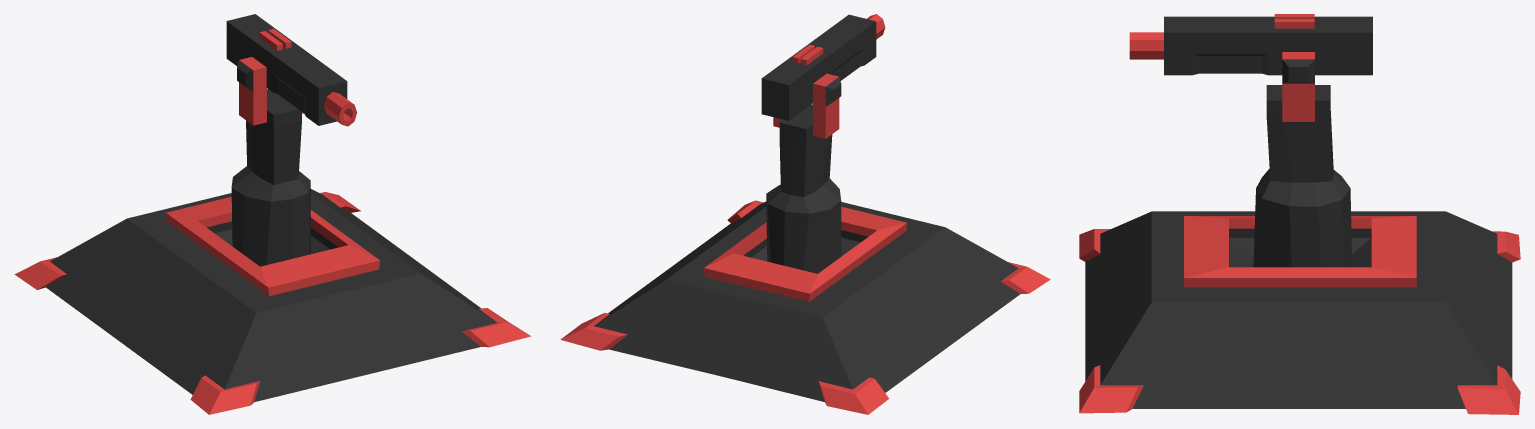
File: turret.fbx
3 renders of one model, left to right at view 1: azimuth 30°, elevation 25°; view 2: azimuth 150°, elevation 25°; view 3: azimuth 270°, elevation 25°, orthographic. The views are drawn at different scales.
Visible parts, largest first — view 1: base, shaft, Cube; view 2: base, shaft, Cube; view 3: base, shaft, Cube.
Part boxes in pixels (x1=…): base: x1=14, y1=189, x2=530, y2=414; shaft: x1=231, y1=57, x2=310, y2=266; Cube: x1=226, y1=14, x2=357, y2=126; base: x1=560, y1=200, x2=1050, y2=414; shaft: x1=766, y1=73, x2=841, y2=273; Cube: x1=761, y1=14, x2=885, y2=120; base: x1=1079, y1=211, x2=1520, y2=414; shaft: x1=1253, y1=52, x2=1352, y2=267; Cube: x1=1129, y1=14, x2=1372, y2=75.
Size of the model in its own units: 210 by 167 by 217.
